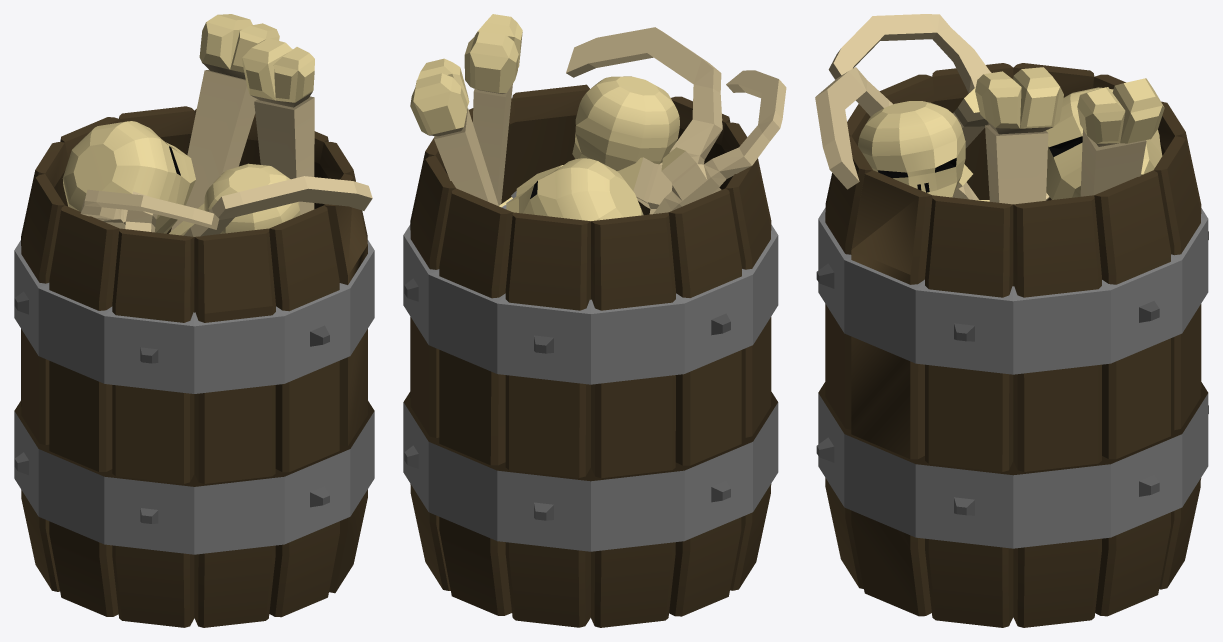
File: barrEsq2.fbx
The picture shows the model from 3 angles, left to right: view 1: azimuth 30°, elevation 25°; view 2: azimuth 150°, elevation 25°; view 3: azimuth 270°, elevation 25°; orthographic projection. The views are drawn at different scales.
Parts seen in each view (by area): view 1: Madera, Anilla_Arriba, Anilla_Abajo, Hueso7, Cabeza_Parte_Arriba4, Hueso6, Costilla_3, Costilla_4, Cabeza_Parte_Arriba3; view 2: Madera, Anilla_Arriba, Anilla_Abajo, Costilla_3, Cabeza_Parte_Arriba3, Hueso6, Hueso7, Costilla_4, Cabeza_Parte_Arriba4; view 3: Madera, Anilla_Arriba, Anilla_Abajo, Hueso6, Cabeza_Parte_Arriba3, Hueso7, Costilla_4, Costilla_3, Cabeza_Parte_Arriba4.
Part boxes in pixels (x1,y1,x2,y2): Madera: (21, 106, 367, 627); Anilla_Arriba: (14, 240, 374, 393); Anilla_Abajo: (14, 401, 374, 554); Hueso7: (170, 14, 279, 231); Cabeza_Parte_Arriba4: (62, 121, 195, 233); Hueso6: (242, 38, 314, 214); Costilla_3: (184, 176, 372, 236); Costilla_4: (80, 189, 219, 232); Cabeza_Parte_Arriba3: (204, 163, 300, 233); Madera: (410, 84, 771, 627); Anilla_Arriba: (403, 224, 778, 384); Anilla_Abajo: (403, 392, 778, 551); Costilla_3: (566, 27, 722, 214); Cabeza_Parte_Arriba3: (572, 76, 679, 170); Hueso6: (464, 14, 522, 205); Hueso7: (410, 58, 498, 206); Costilla_4: (653, 70, 786, 213); Cabeza_Parte_Arriba4: (506, 158, 643, 221); Madera: (825, 63, 1201, 627); Anilla_Arriba: (816, 207, 1208, 374); Anilla_Abajo: (816, 382, 1208, 548); Hueso6: (975, 67, 1063, 204); Cabeza_Parte_Arriba3: (858, 101, 965, 197); Hueso7: (1077, 78, 1164, 196); Costilla_4: (828, 14, 1049, 200); Costilla_3: (815, 67, 978, 199); Cabeza_Parte_Arriba4: (1046, 87, 1162, 199).
Size of the model in its own units: 2.92 by 4.39 by 2.95.
